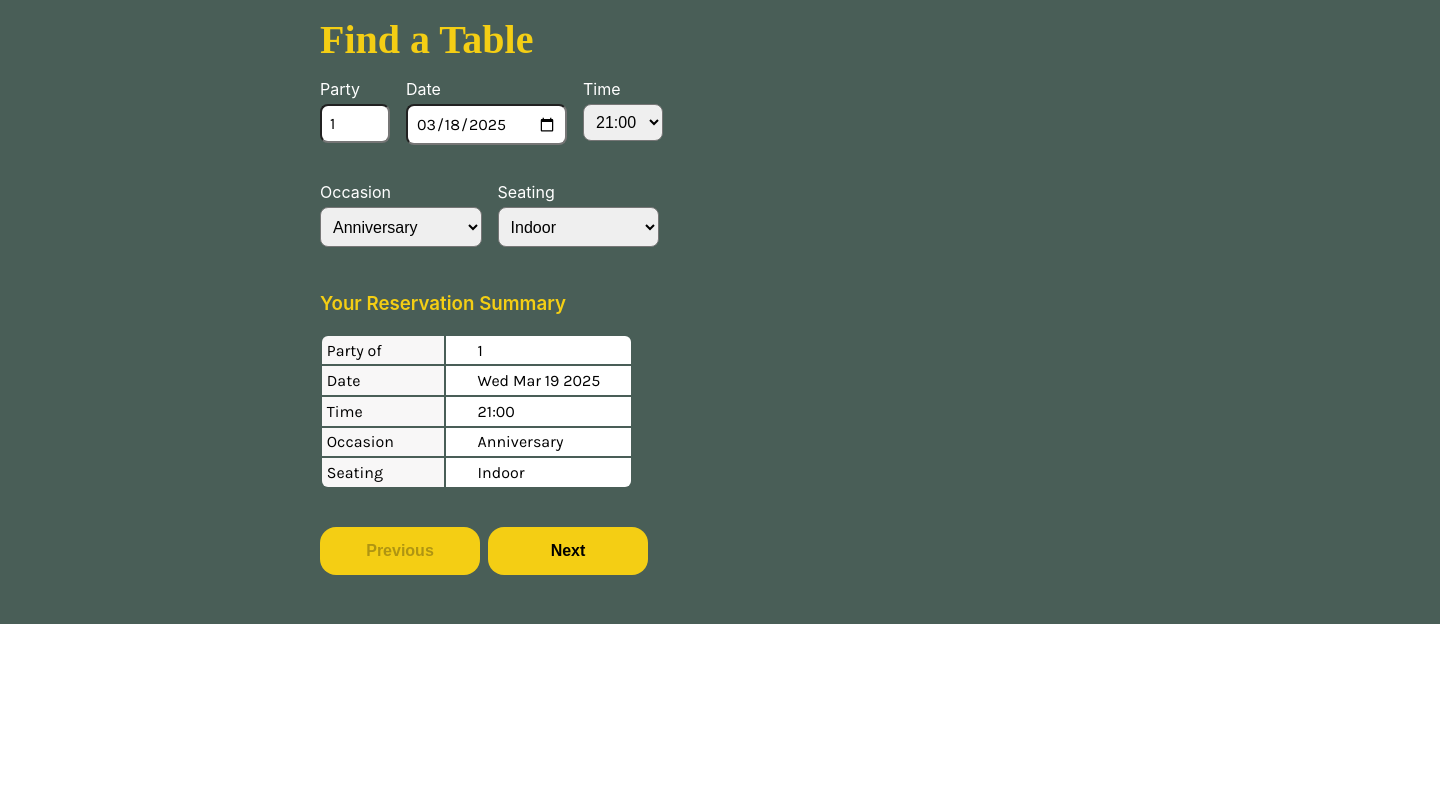
Test: ContactInfo page › shows the First name inputs validation text when 3 letter word is written
Click the button "Next". click: (568, 551)
box: [488,527,648,575]
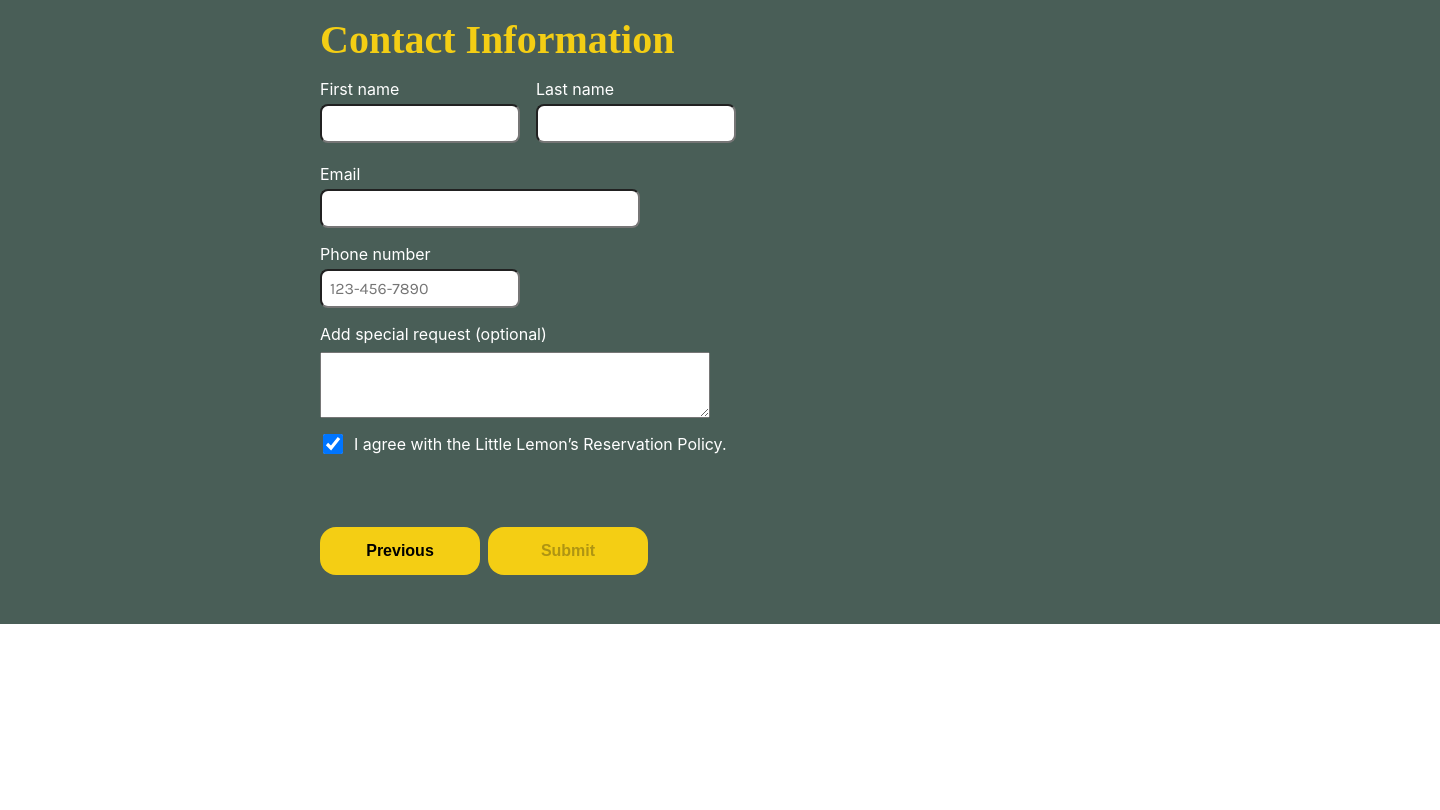
Click the field labelled "First name". click: (420, 124)
box: [320,104,520,143]
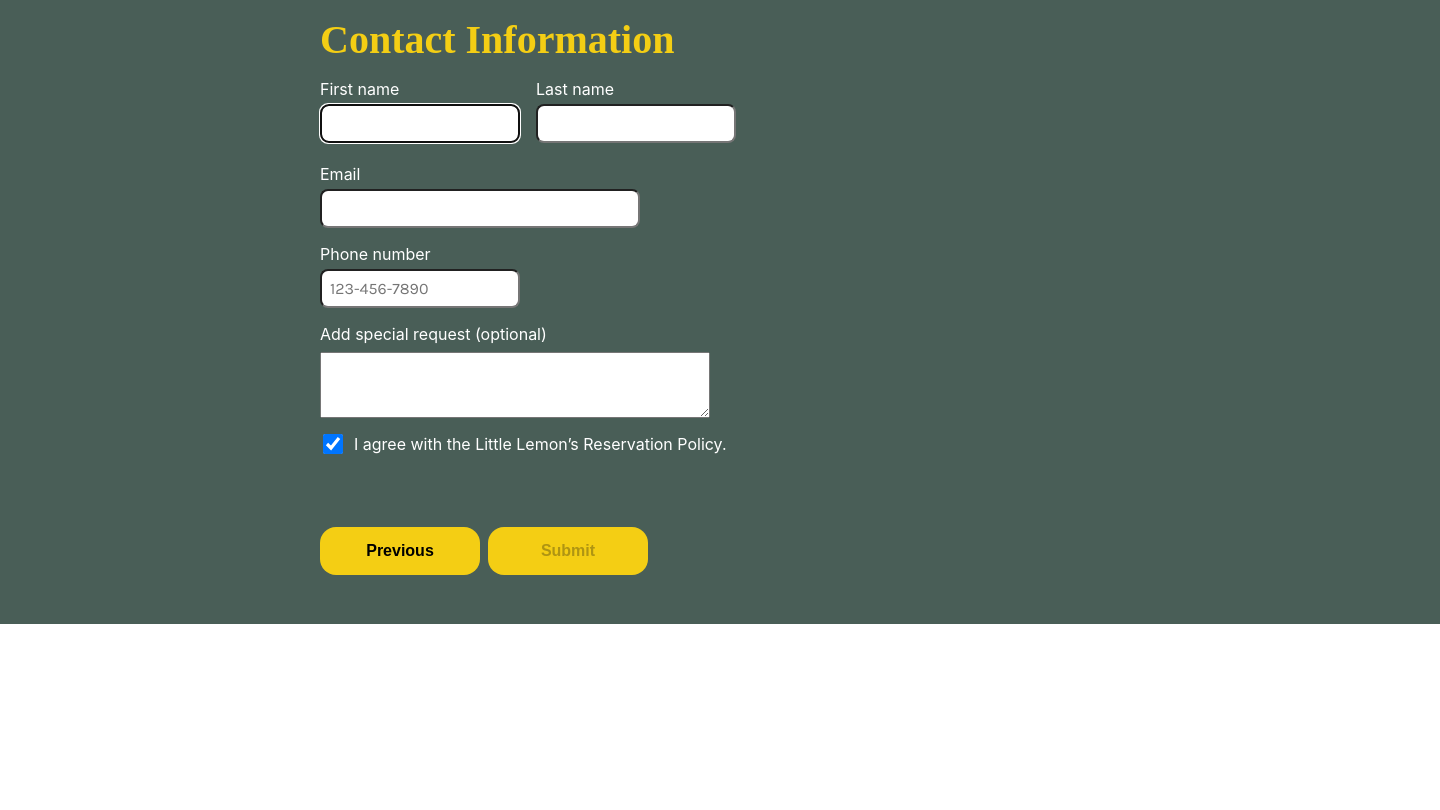
Click the field labelled "Last name". click: (636, 124)
box: [536,104,736,143]
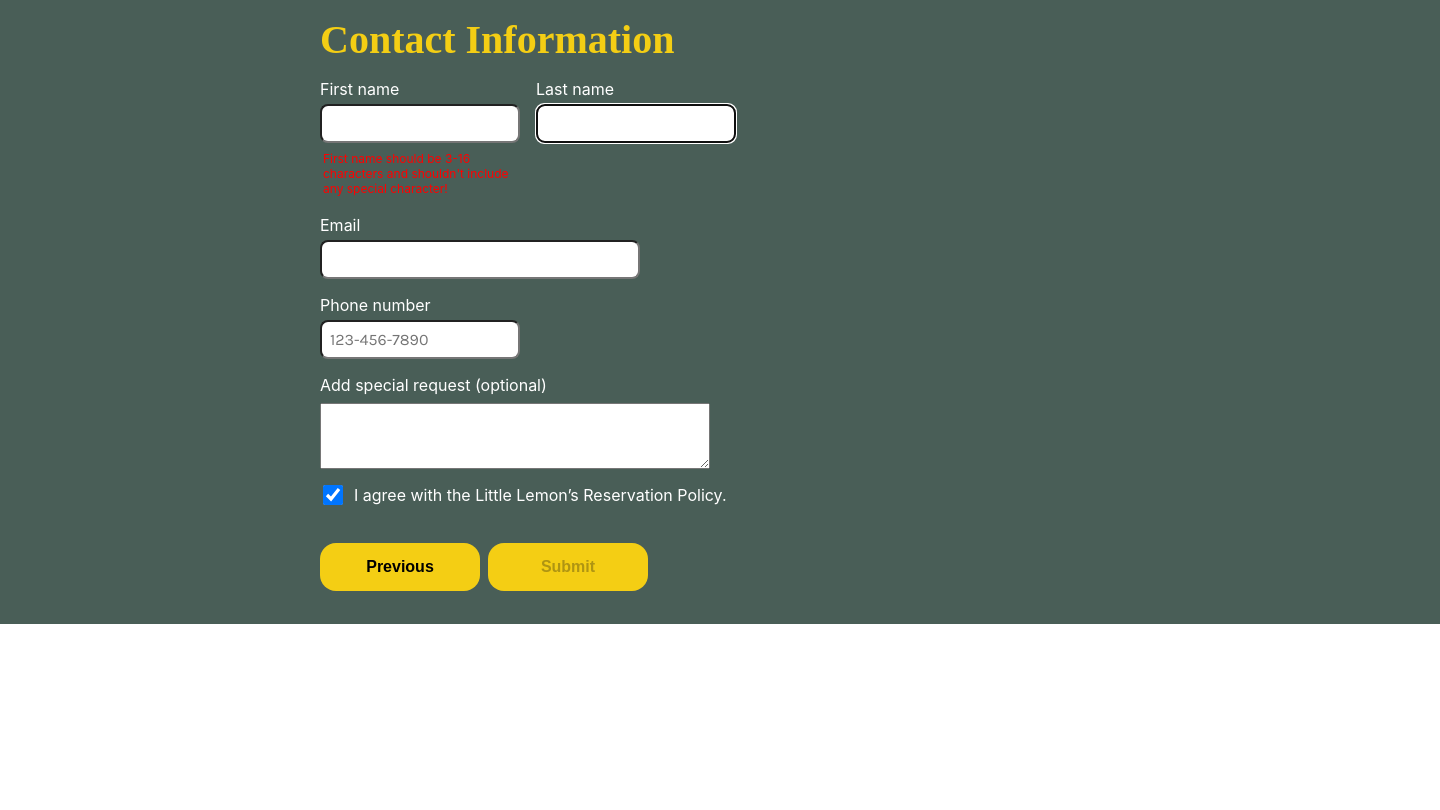
Type "Sam" into the field labelled "First name". click: (420, 124)
box: [320,104,520,143]
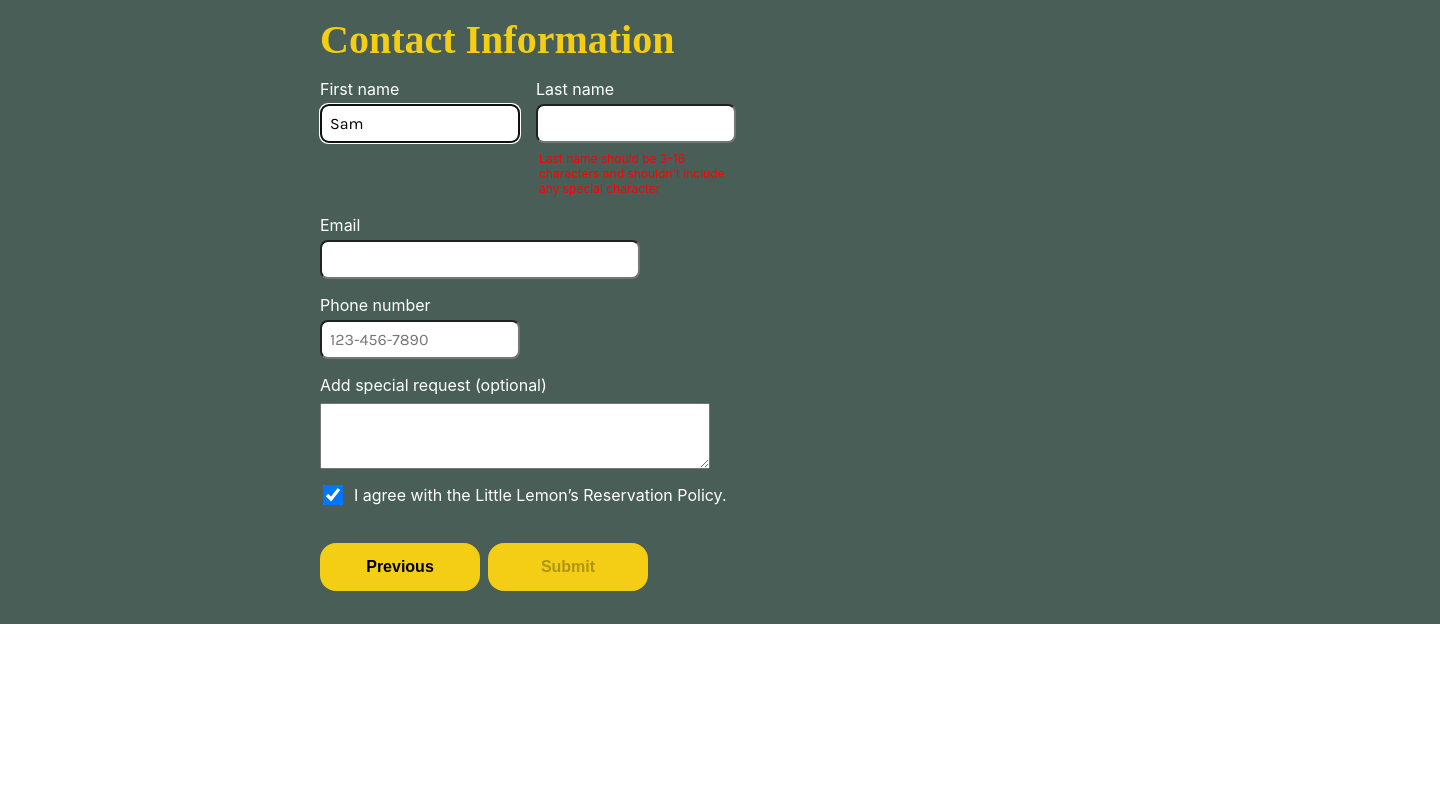
Check: the text "First name should be 3-16" is gone
